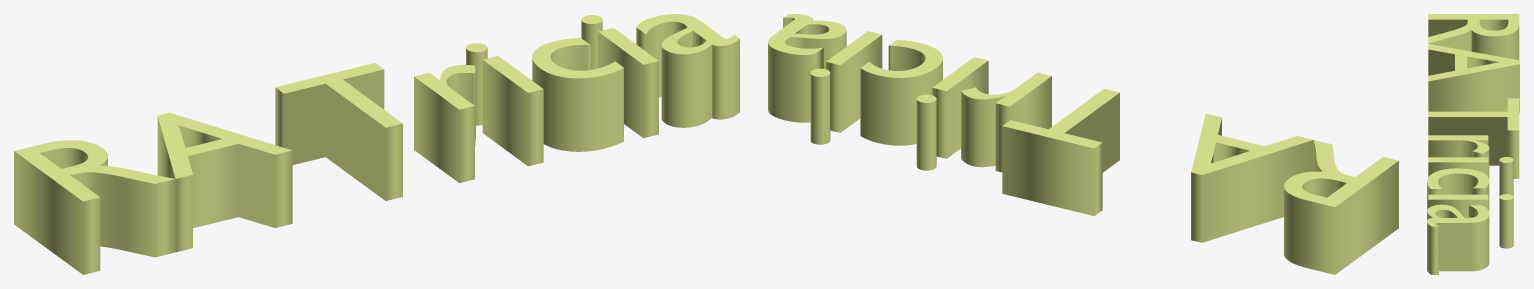
File: RA Tricia.gltf
The picture shows the model from 3 angles, left to right: view 1: azimuth 30°, elevation 25°; view 2: azimuth 150°, elevation 25°; view 3: azimuth 270°, elevation 25°; orthographic projection. The views are drawn at different scales.
Parts seen in each view (by area): view 1: Text; view 2: Text; view 3: Text.
Boxes of the visible parts, x1,y1,x2,y2 form: Text: (14,14,739,274); Text: (768,14,1398,274); Text: (1427,14,1519,274).
Bounding box in the file's own units: 3.76 × 0.4 × 0.695.
